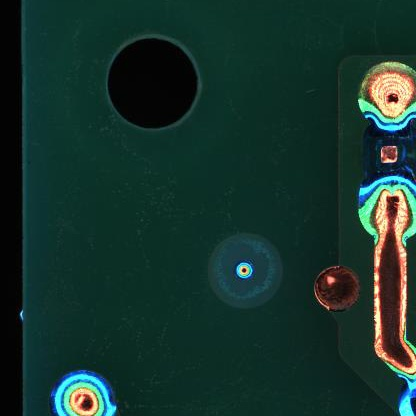spot: (360, 117, 416, 185), (51, 371, 118, 416)
